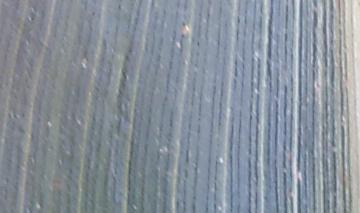tarspot: (28, 14, 37, 22), (30, 4, 38, 13), (315, 80, 322, 89), (180, 20, 187, 28), (116, 2, 122, 11), (196, 39, 201, 49), (91, 9, 96, 18)
